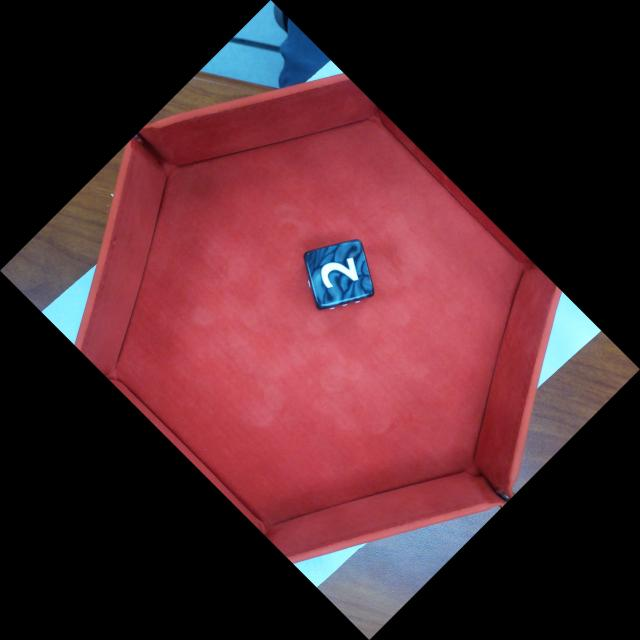dice: (305, 238, 377, 306)
